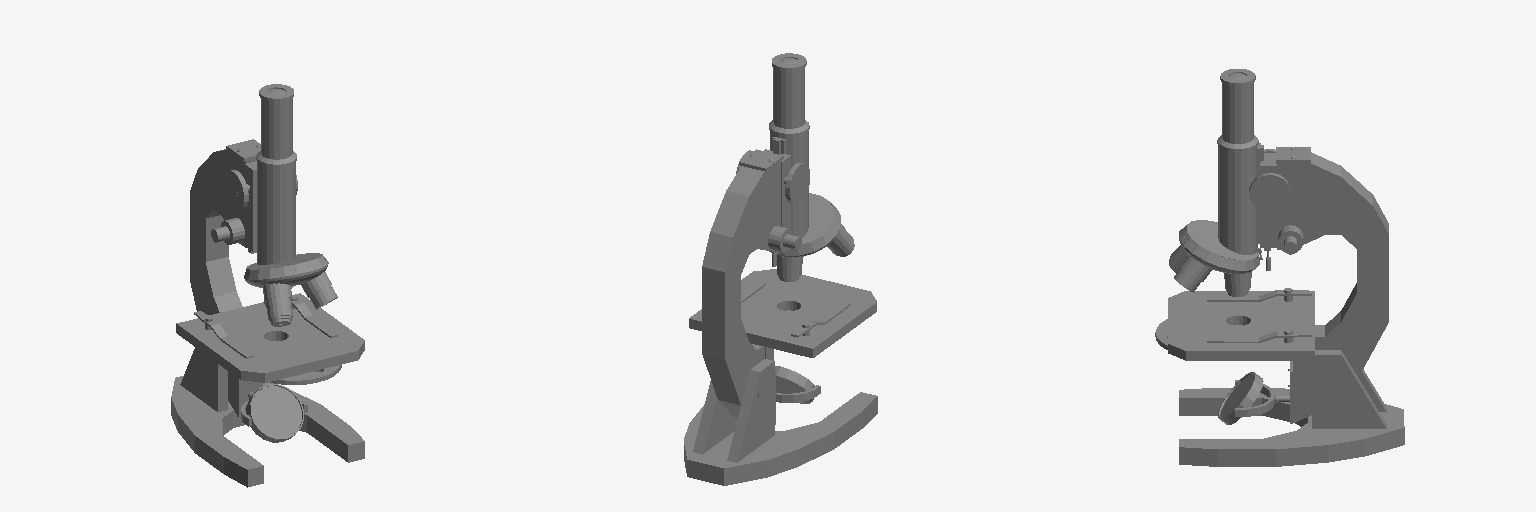
The picture shows the model from 3 angles: view 1: azimuth 30°, elevation 25°; view 2: azimuth 150°, elevation 25°; view 3: azimuth 270°, elevation 25°; orthographic projection.
Visible parts, largest first — view 1: eye_piece; view 2: eye_piece; view 3: eye_piece.
Part boxes in pixels (left/top/right/bottom): eye_piece: left=171, top=84, right=364, bottom=487; eye_piece: left=684, top=53, right=877, bottom=485; eye_piece: left=1155, top=69, right=1404, bottom=466.
Bounding box in the file's own units: 20.9 × 56.87 × 35.63.